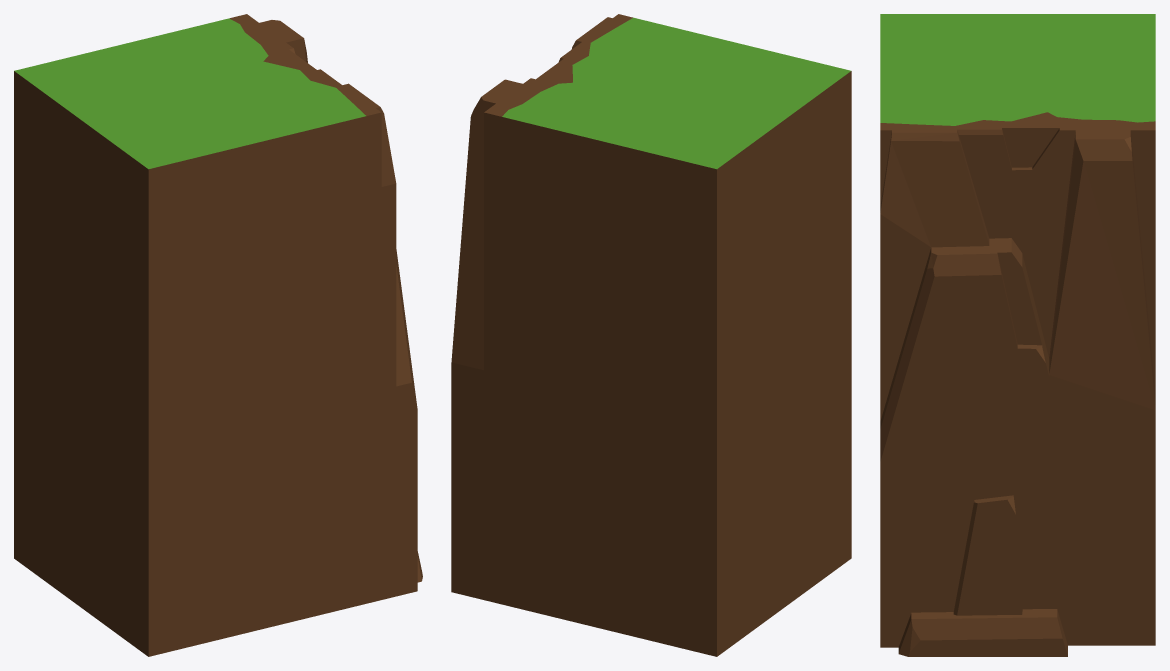
The model's file is Cliff x2 1.fbx.
The picture shows the model from 3 angles, left to right: view 1: azimuth 30°, elevation 25°; view 2: azimuth 150°, elevation 25°; view 3: azimuth 270°, elevation 25°; orthographic projection. The views are drawn at different scales.
Visible parts, largest first — view 1: Cliff x2 2; view 2: Cliff x2 2; view 3: Cliff x2 2.
Boxes of the visible parts, x1=… form: Cliff x2 2: x1=14, y1=14, x2=422, y2=656; Cliff x2 2: x1=451, y1=14, x2=851, y2=656; Cliff x2 2: x1=880, y1=14, x2=1155, y2=656.
Size of the model in its own units: 247 by 400 by 200.
